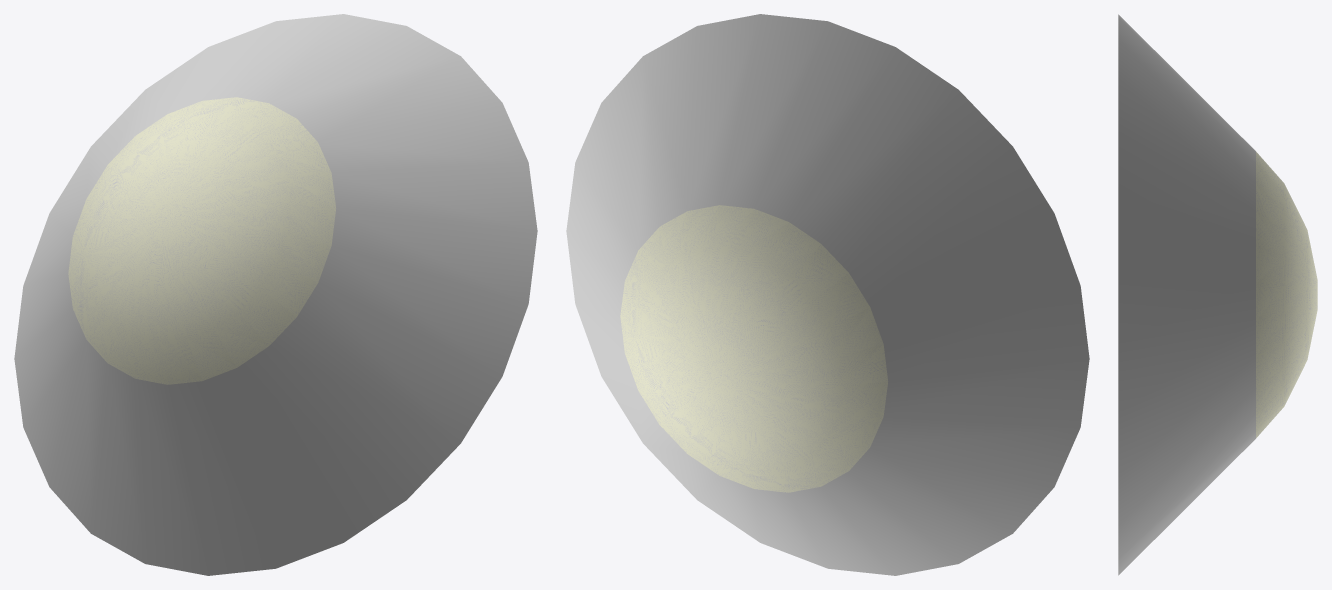
The model's file is model_align.obj.
3 views of the same model, side by side, from view 1: azimuth 30°, elevation 25°; view 2: azimuth 150°, elevation 25°; view 3: azimuth 270°, elevation 25° (orthographic). The views are drawn at different scales.
Parts seen in each view (by area): view 1: mesh1_mesh1-geometry; view 2: mesh1_mesh1-geometry; view 3: mesh1_mesh1-geometry.
Part boxes in pixels (<box>): mesh1_mesh1-geometry: <box>14,14,537,575</box>; mesh1_mesh1-geometry: <box>566,14,1089,575</box>; mesh1_mesh1-geometry: <box>1118,14,1317,575</box>.
Bounding box in the file's own units: 0.1392 × 0.1392 × 0.0493.
